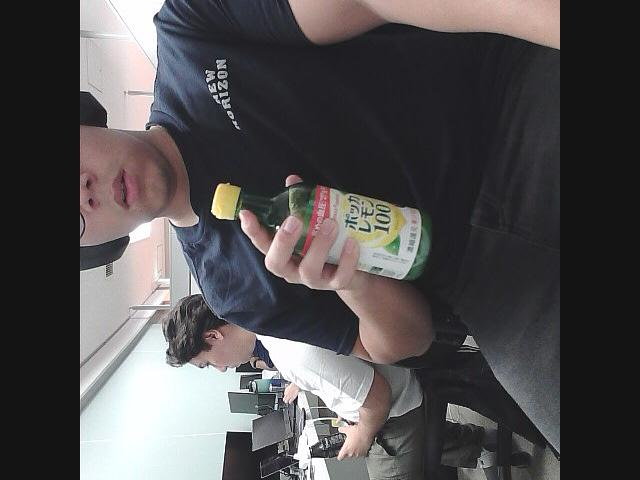Lemon_sapporo: (206, 180, 434, 282)
